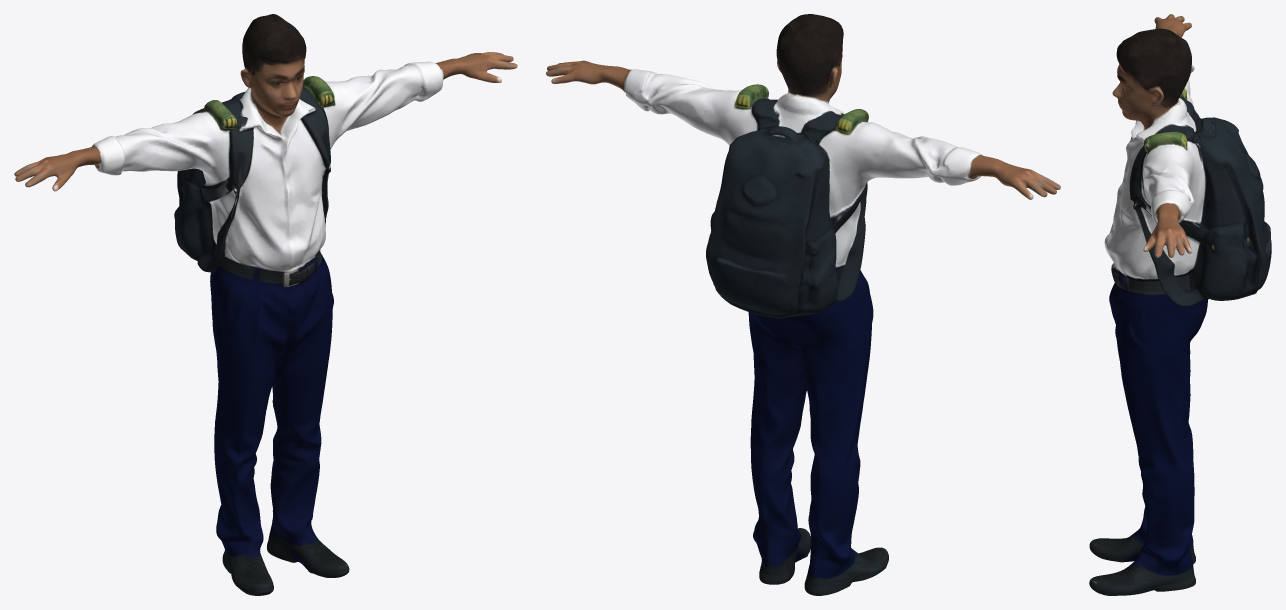
File: Meshy_AI_Schoolboy_Airplane_Po_0904094652_texture.glb
3 views of the same model, side by side, from view 1: azimuth 30°, elevation 25°; view 2: azimuth 150°, elevation 25°; view 3: azimuth 270°, elevation 25° (orthographic). The views are drawn at different scales.
Parts seen in each view (by area): view 1: mesh_node; view 2: mesh_node; view 3: mesh_node.
Part boxes in pixels (x1,y1,x2,y2): mesh_node: (14,14,517,595); mesh_node: (546,14,1060,595); mesh_node: (1089,14,1271,595).
Size of the model in its own units: 1.81 by 1.9 by 0.5783.
Materials: 1 (1 with a texture image).
